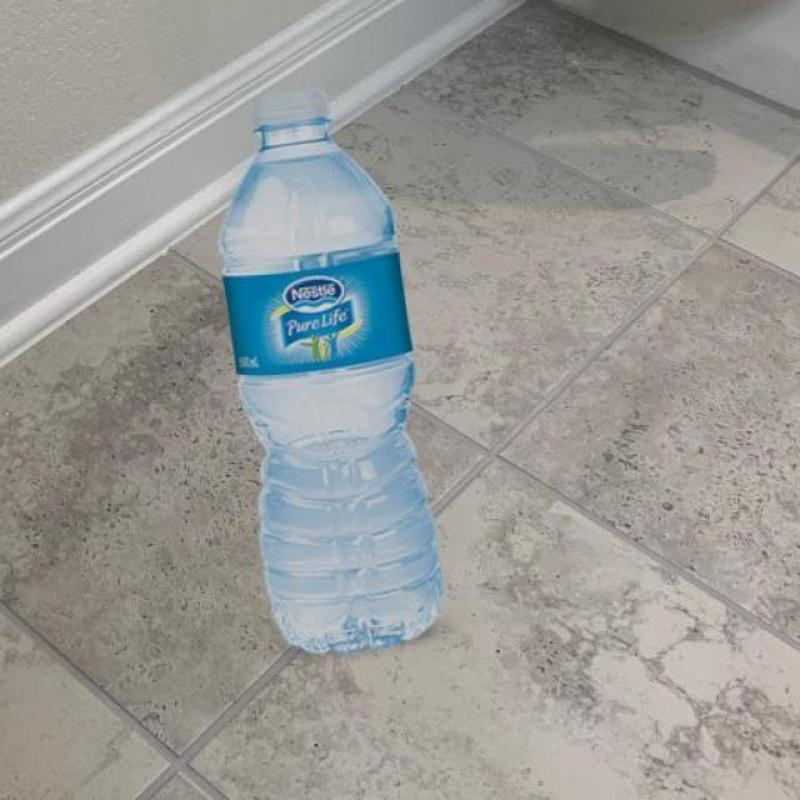botella: (216, 86, 446, 654)
